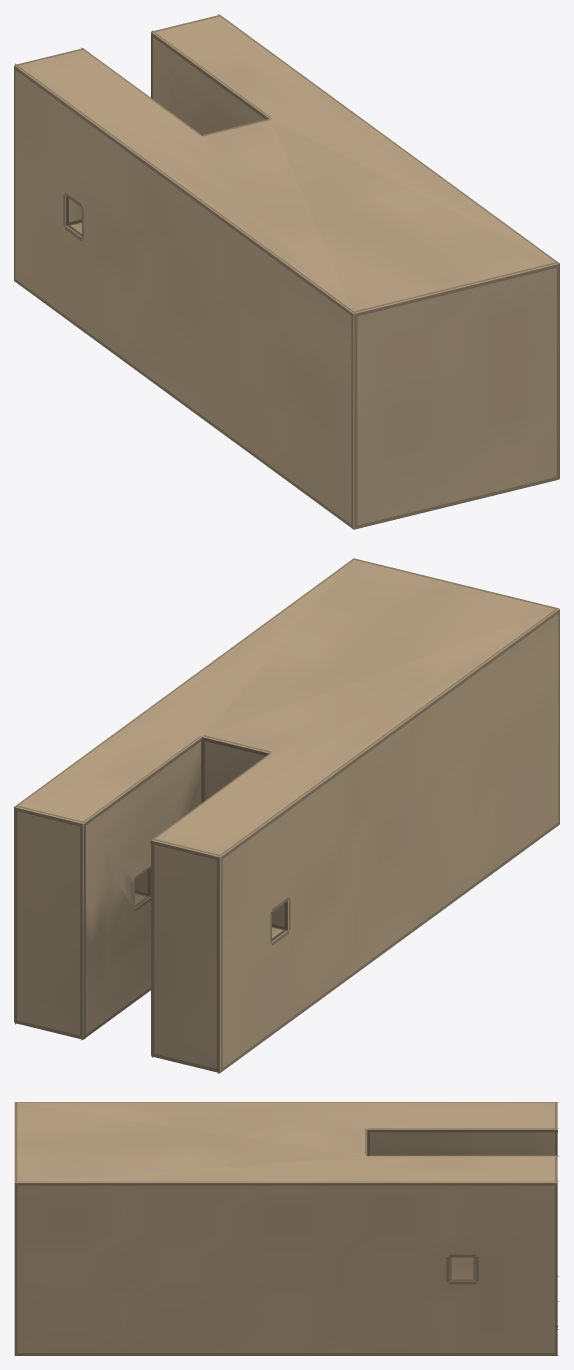
3 views of the same model, one above another, from view 1: azimuth 30°, elevation 25°; view 2: azimuth 150°, elevation 25°; view 3: azimuth 270°, elevation 25° (orthographic). The views are drawn at different scales.
Parts seen in each view (by area): view 1: part-b; view 2: part-b; view 3: part-b.
Part boxes in pixels (bbox=[...]): part-b: bbox=[14, 14, 559, 529]; part-b: bbox=[14, 558, 559, 1073]; part-b: bbox=[14, 1102, 559, 1355].
Size of the model in its own units: 0.1057 by 0.1058 by 0.3017.
